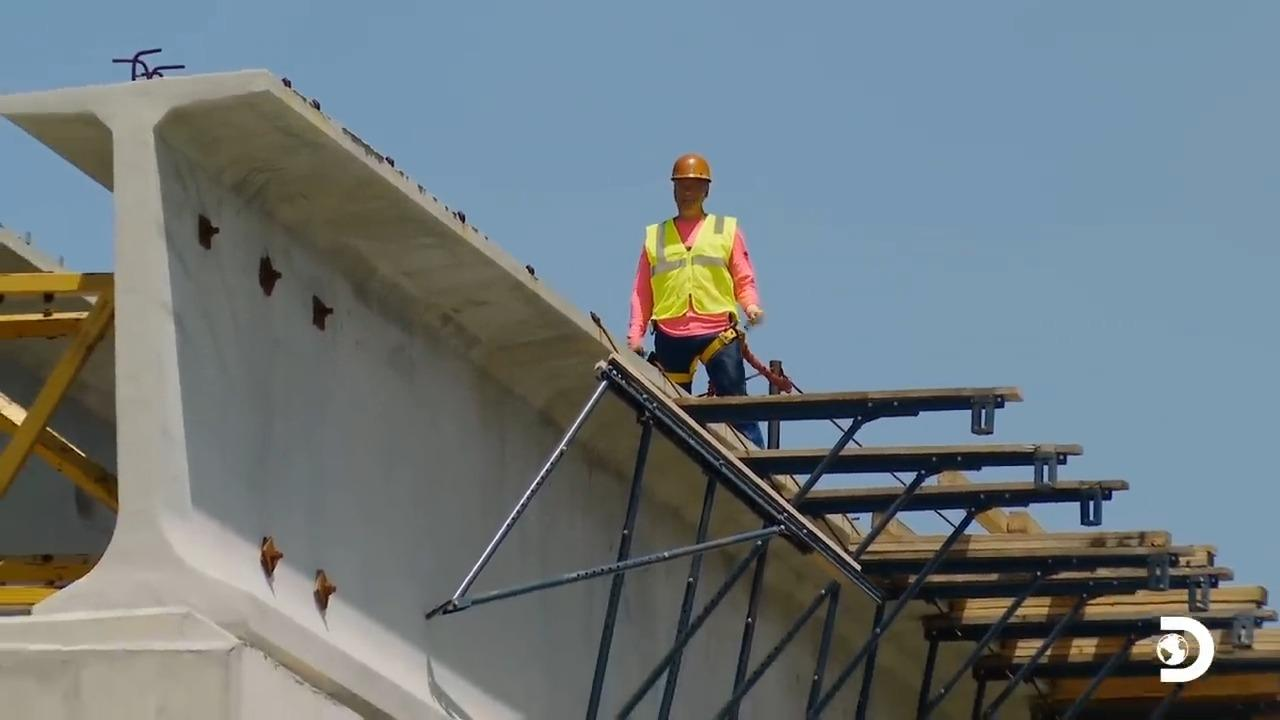Helmet: (670, 153, 711, 181)
Person: (626, 152, 768, 451)
Safety Vest: (648, 232, 735, 310)
bare-arms: (746, 304, 766, 327)
